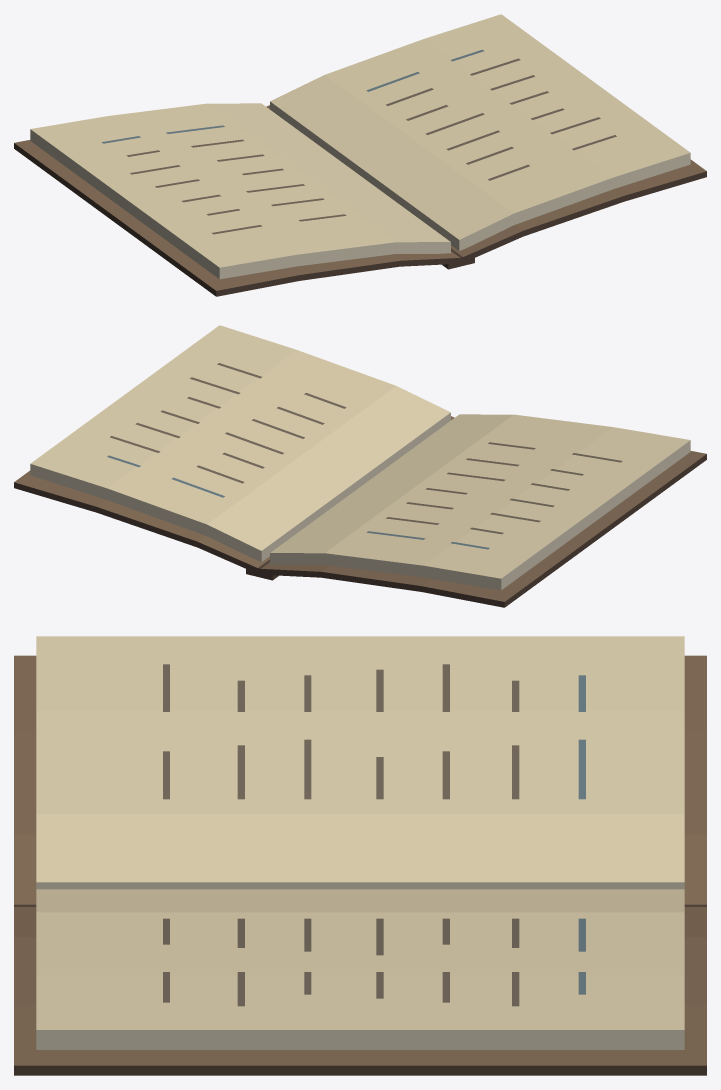
File: Turner_EquipmentLogbook.fbx
The picture shows the model from 3 angles, top to bottom: view 1: azimuth 30°, elevation 25°; view 2: azimuth 150°, elevation 25°; view 3: azimuth 270°, elevation 25°; orthographic projection. The views are drawn at different scales.
Visible parts, largest first — view 1: Turner_EquipmentLogbook; view 2: Turner_EquipmentLogbook; view 3: Turner_EquipmentLogbook.
Part boxes in pixels (x1,y1,x2,y2): Turner_EquipmentLogbook: [14, 14, 706, 296]; Turner_EquipmentLogbook: [14, 325, 706, 607]; Turner_EquipmentLogbook: [14, 636, 706, 1075].
Bounding box in the file's own units: 0.35 × 0.035 × 0.25.
